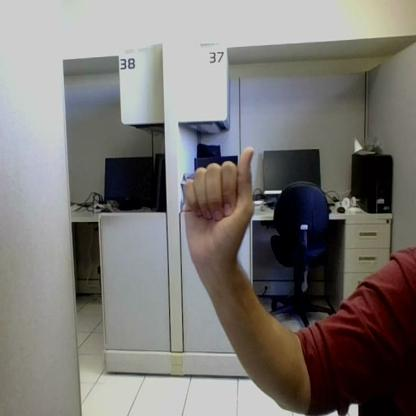A: (185, 147, 254, 264)
